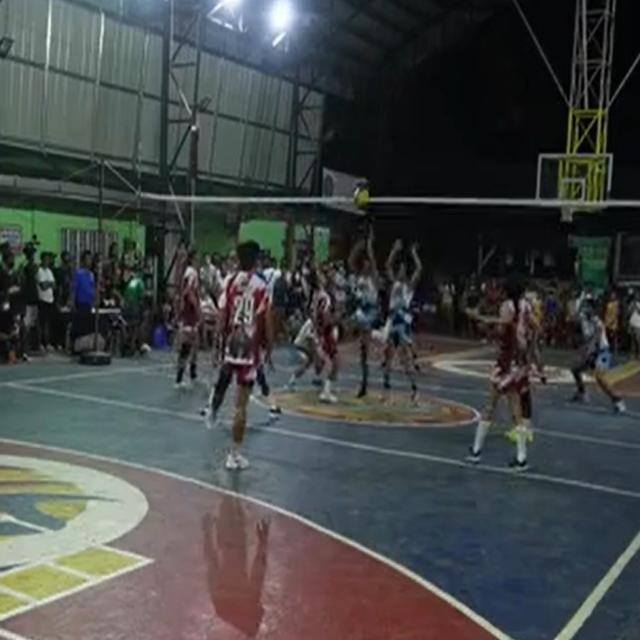volleyball: (354, 187, 368, 206)
